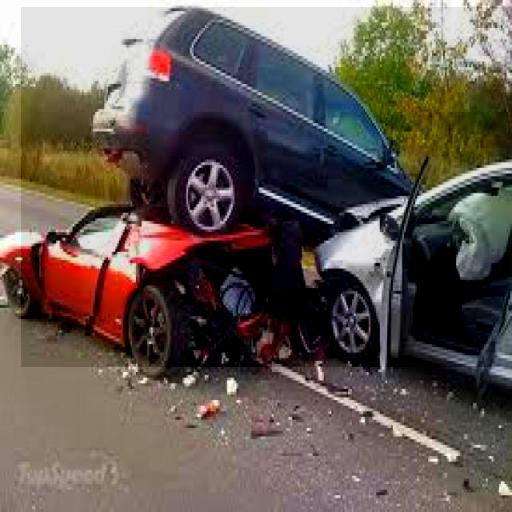小汽车撞小汽车: (21, 7, 512, 367)
